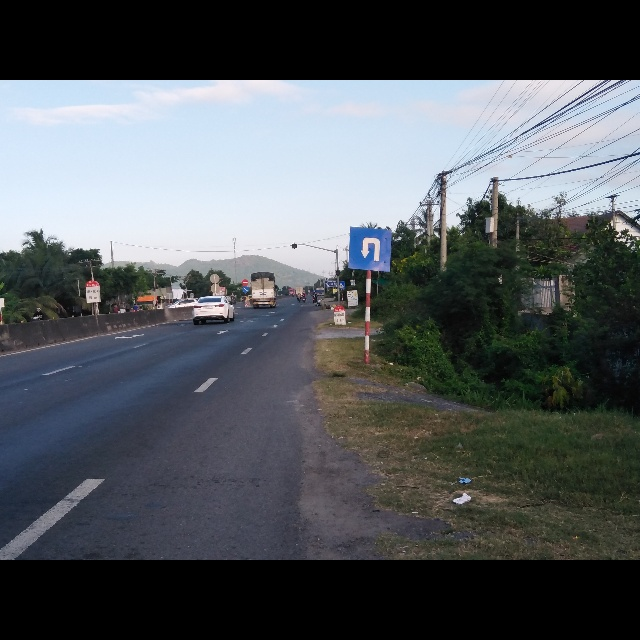Khu vực quay đầu xe: (347, 226, 392, 273)
